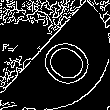O_NW: (19, 22, 91, 88)
